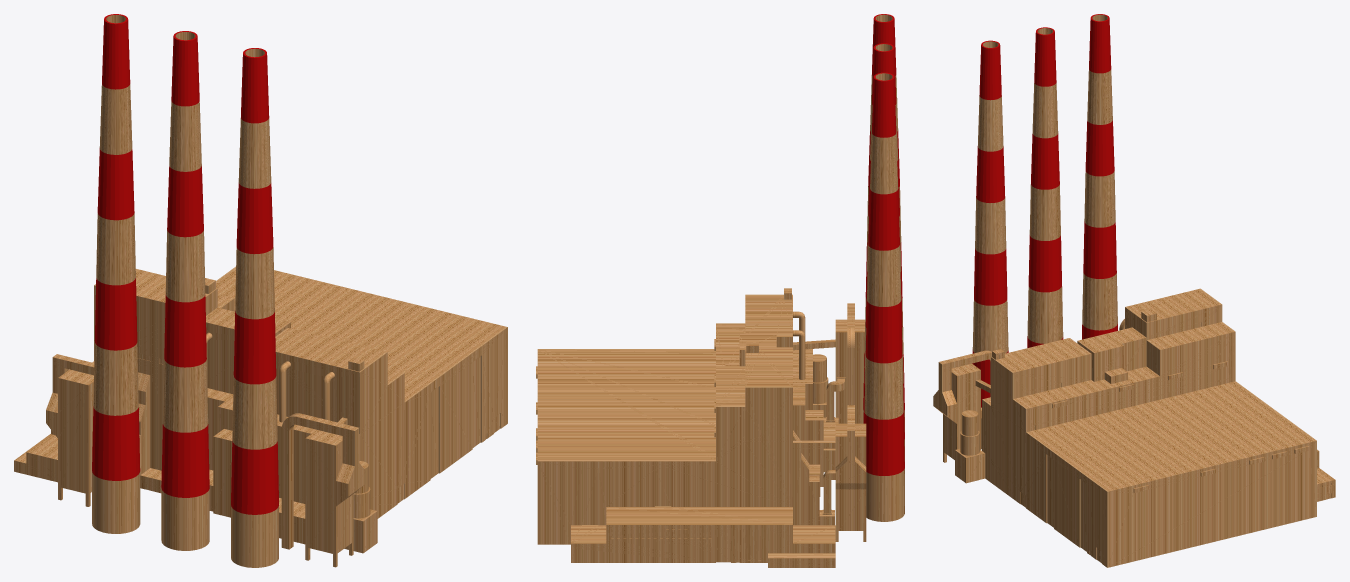
Rendered from PowerPlant.FBX.
The picture shows the model from 3 angles, left to right: view 1: azimuth 30°, elevation 25°; view 2: azimuth 150°, elevation 25°; view 3: azimuth 270°, elevation 25°; orthographic projection. The views are drawn at different scales.
Visible parts, largest first — view 1: Group1; view 2: Group1; view 3: Group1.
Boxes of the visible parts, x1,y1,x2,y2 form: Group1: (14, 14, 507, 567); Group1: (536, 14, 904, 567); Group1: (933, 14, 1335, 567).
Size of the model in its own units: 2.71 by 3.1 by 2.84.
5 materials, 4 textured.
